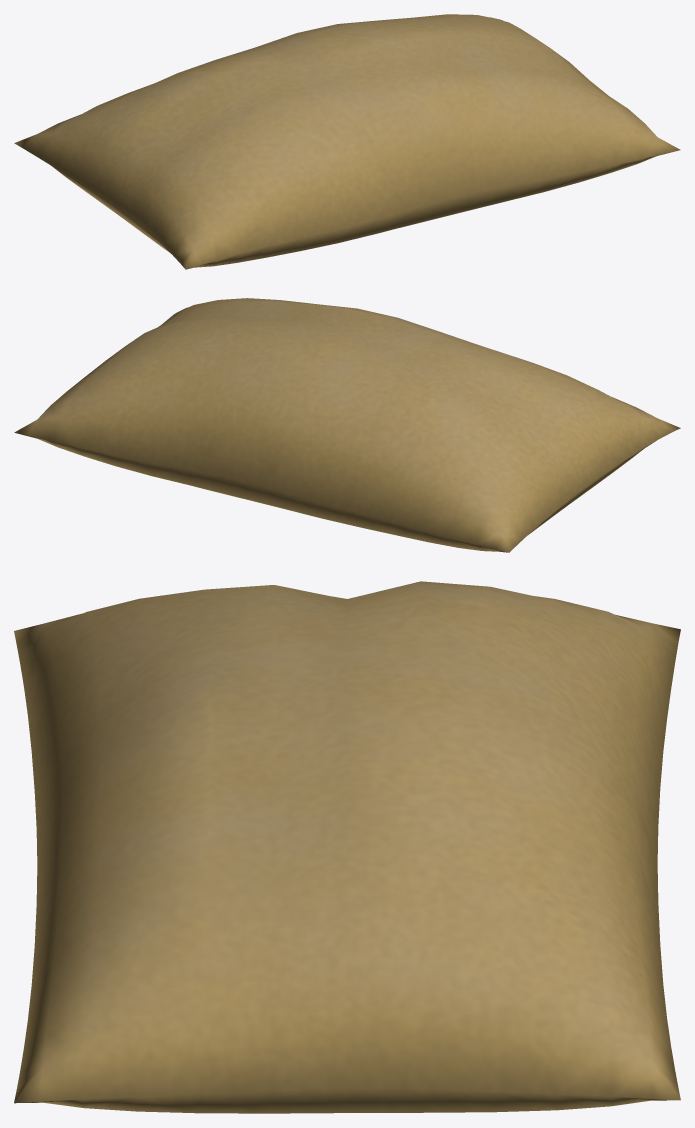
The model's file is Cushion 1.fbx.
3 views of the same model, one above another, from view 1: azimuth 30°, elevation 25°; view 2: azimuth 150°, elevation 25°; view 3: azimuth 270°, elevation 25° (orthographic). The views are drawn at different scales.
Visible parts, largest first — view 1: Cushion 1; view 2: Cushion 1; view 3: Cushion 1.
Boxes of the visible parts, box(x1,y1,x2,y2) form: Cushion 1: box(14, 14, 680, 269); Cushion 1: box(14, 298, 680, 552); Cushion 1: box(14, 581, 680, 1113).
Bounding box in the file's own units: 0.5 × 0.1309 × 0.3.
1 material, 1 textured.
